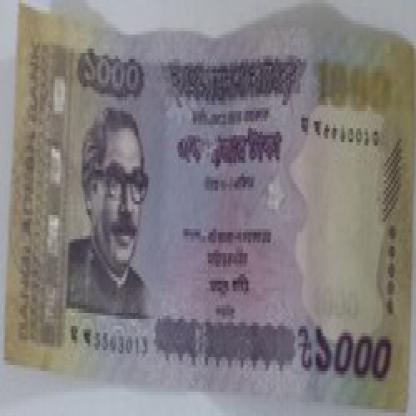One Thousand taka: (296, 319, 396, 392), (78, 45, 145, 101)
